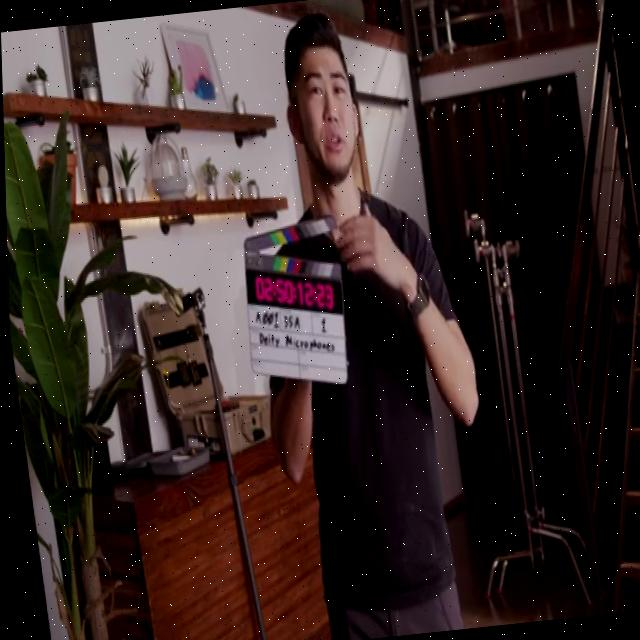Clapperboard: (243, 216, 349, 388)
